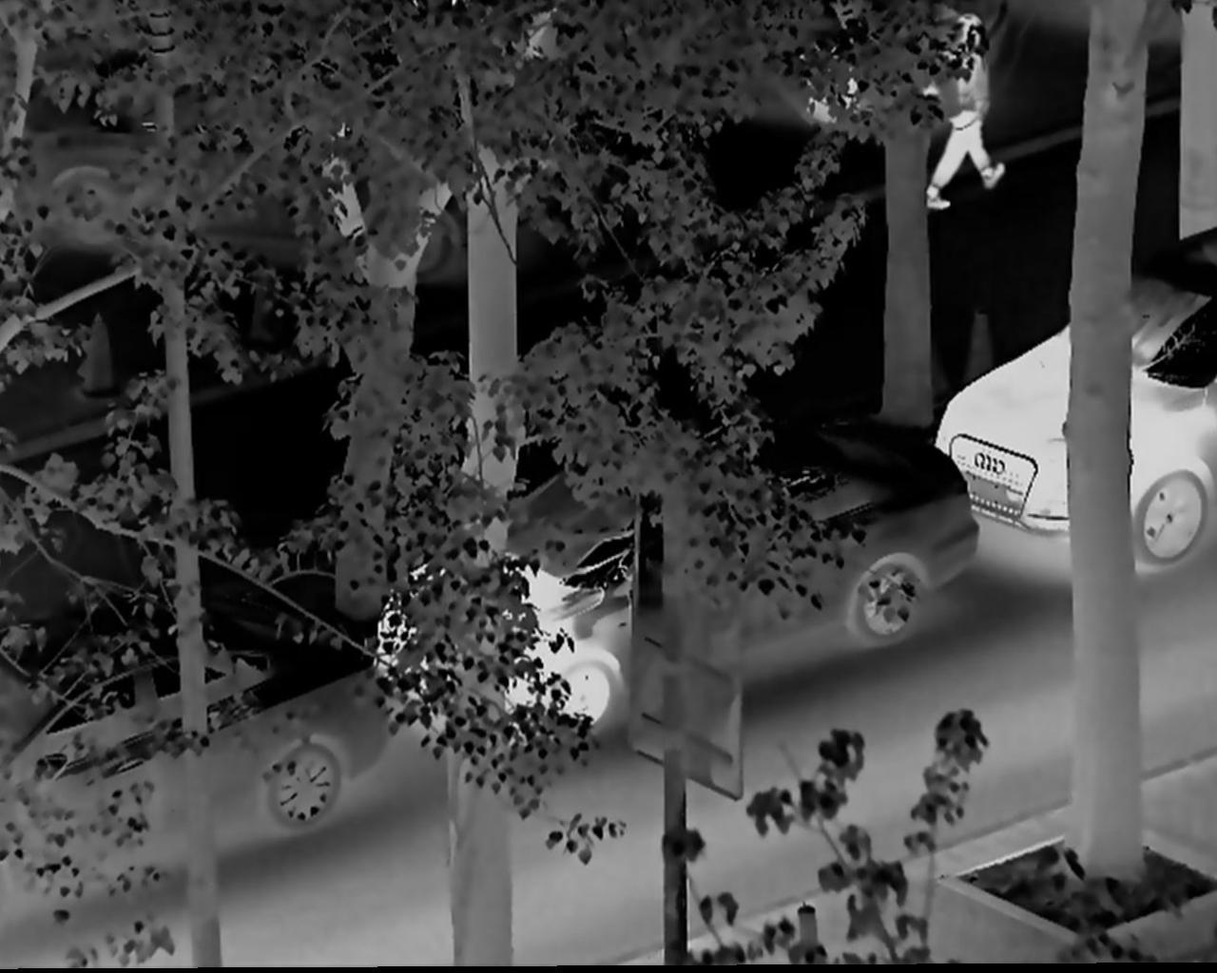person: (928, 11, 1011, 224)
